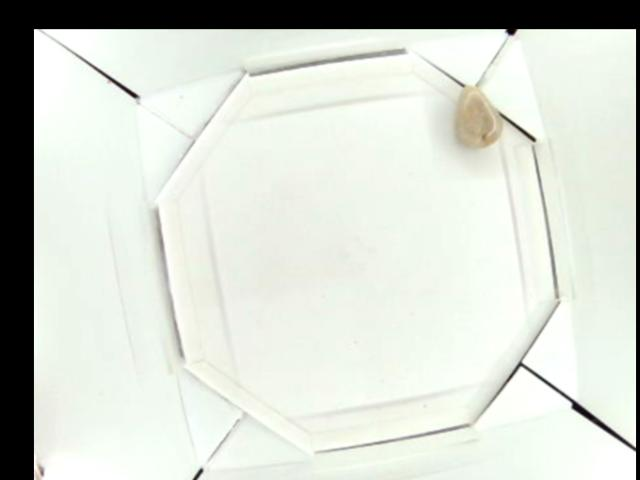Pebble: (454, 81, 502, 150)
